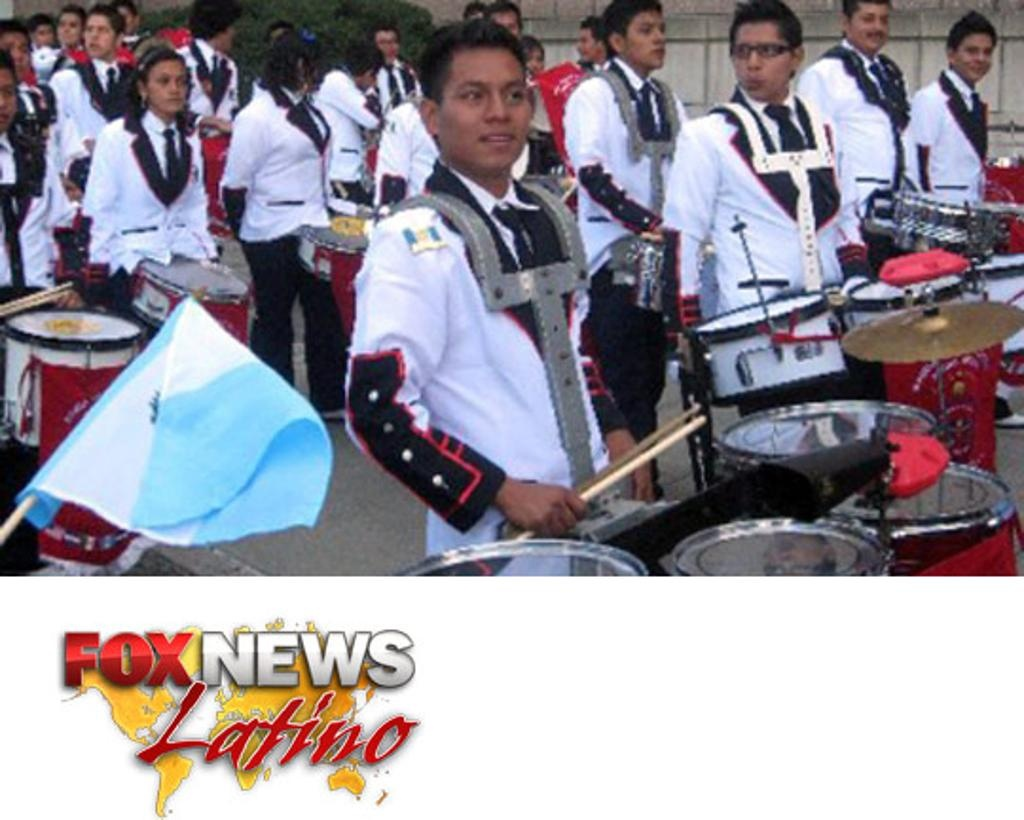human_face: (438, 50, 532, 170), (730, 23, 790, 99), (624, 6, 666, 68), (146, 56, 186, 112), (954, 33, 994, 83), (851, 8, 889, 52), (2, 31, 32, 85), (83, 13, 113, 57), (0, 68, 18, 134), (574, 29, 604, 64), (490, 11, 518, 46), (56, 12, 80, 44), (524, 47, 544, 83), (114, 5, 138, 35), (374, 30, 398, 60), (306, 51, 324, 91), (216, 18, 234, 50), (362, 57, 380, 88), (34, 25, 52, 51)
